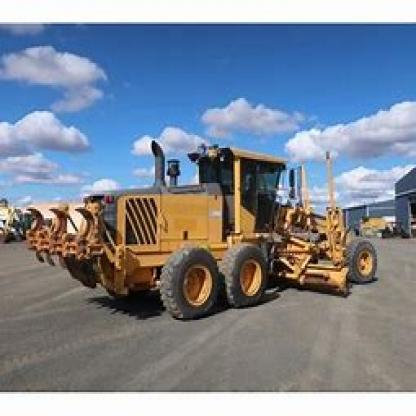bull_dozer/loader/grader: (20, 118, 384, 322)
